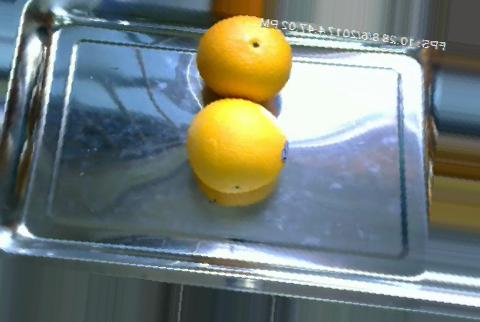Orange: (187, 96, 291, 194), (195, 15, 294, 104)
